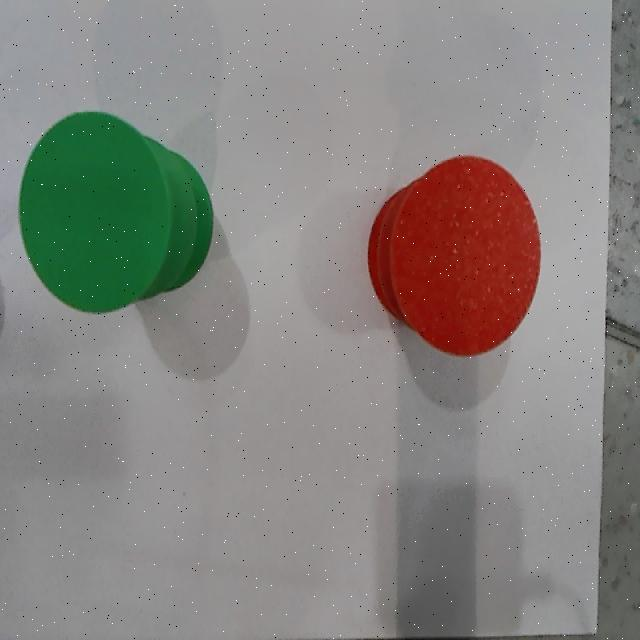g: (20, 112, 173, 314)
r: (389, 154, 542, 355)
